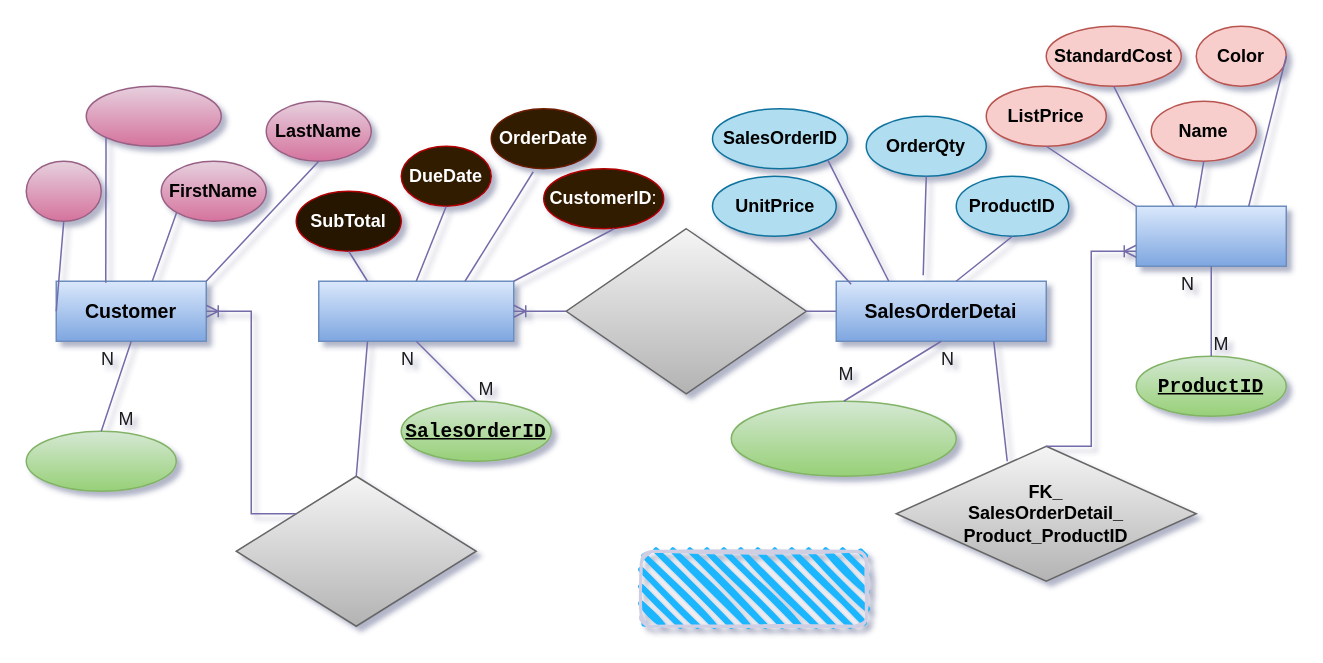
This 1323x663 diagram has some shape labels left out. Here are the shapes that lost their labels. From the top down, the centre of each, then its label:
the point at 153,115: EmailAddress
the point at 63,190: Phone
the point at 1210,235: Product
the point at 415,310: SalesOrderHeader
the point at 685,310: FK_ SalesOrderDetail_ SalesOrderHeader_ SalesOrderID
the point at 843,438: SalesOrderDetailID
the point at 100,460: CustomerID
the point at 355,550: FK_ SalesOrderHeader_ Customer_ CustomerID
the point at 753,588: Javier A. S. Coronado
